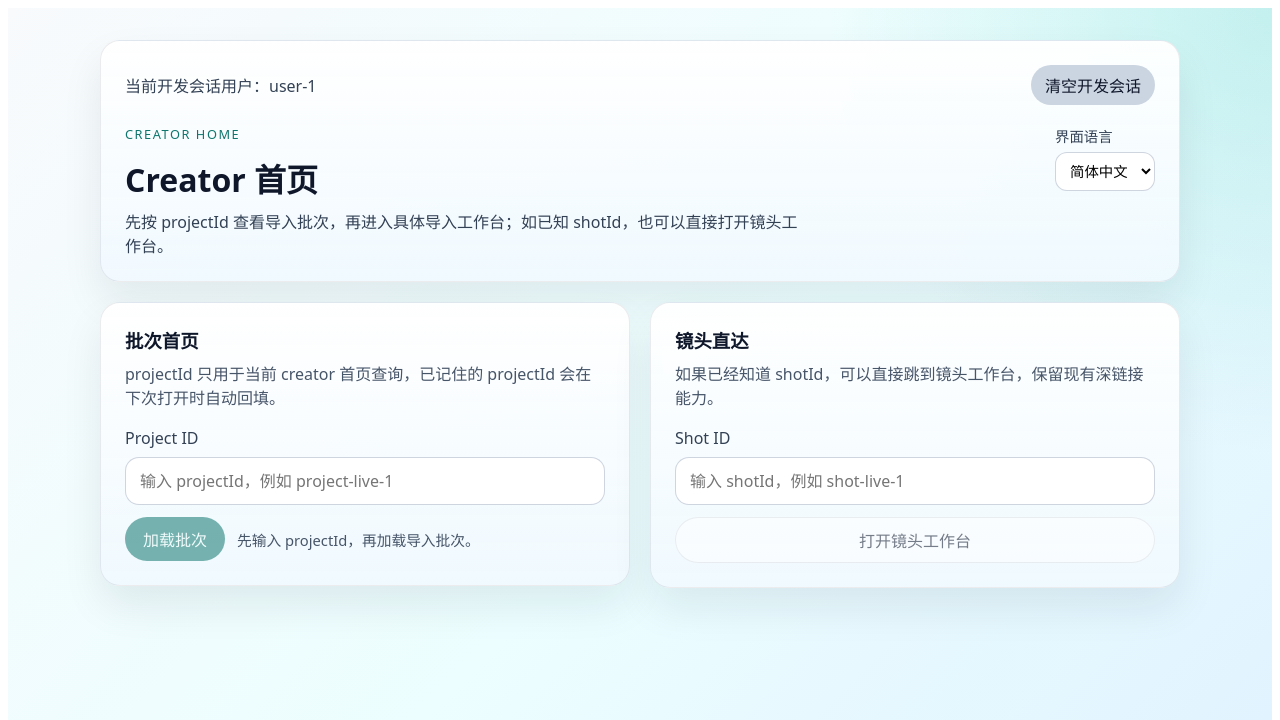
Test: App › opens the shot workbench from the homepage manual shotId entry
The width and height of the screenshot is (1280, 720).
Check: the heading "Creator 首页" is shown, box [125,158,318,201]
Type "shot-home-1" into the field labelled "Shot ID". click: (915, 481)
box: [675,457,1155,505]
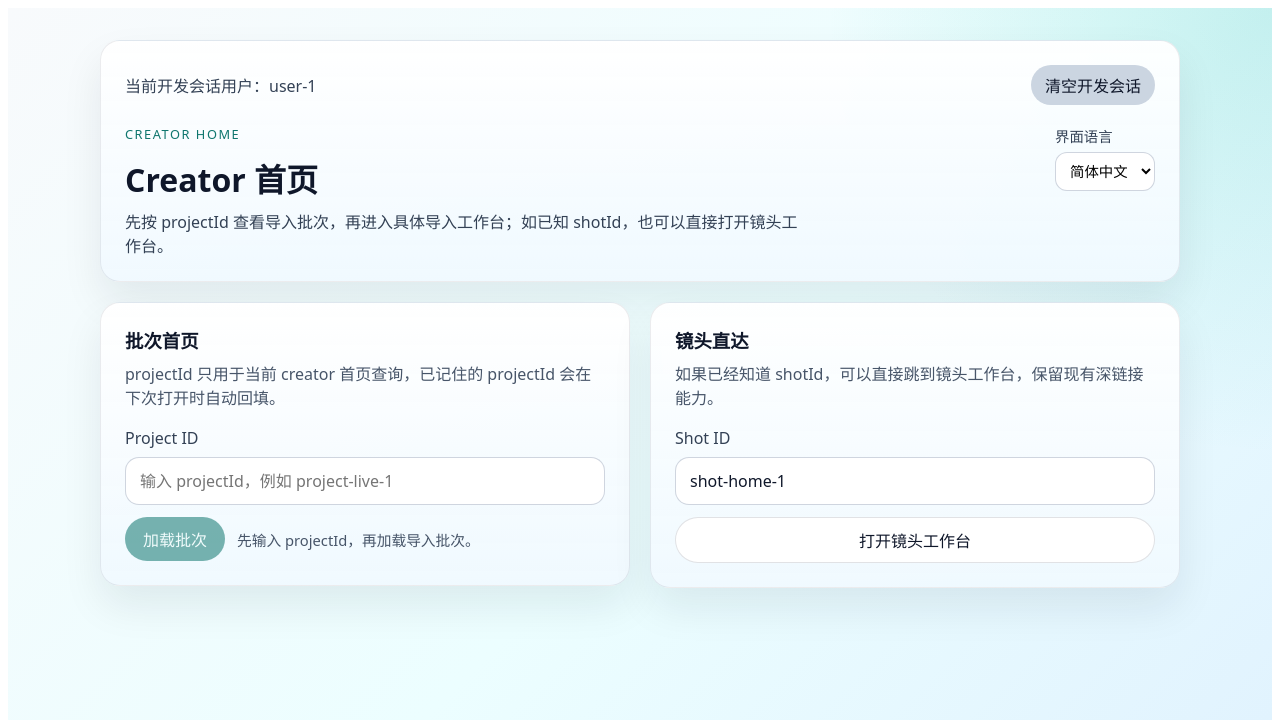
Click the button "打开镜头工作台". click: click(915, 540)
box: [675,517,1155,563]
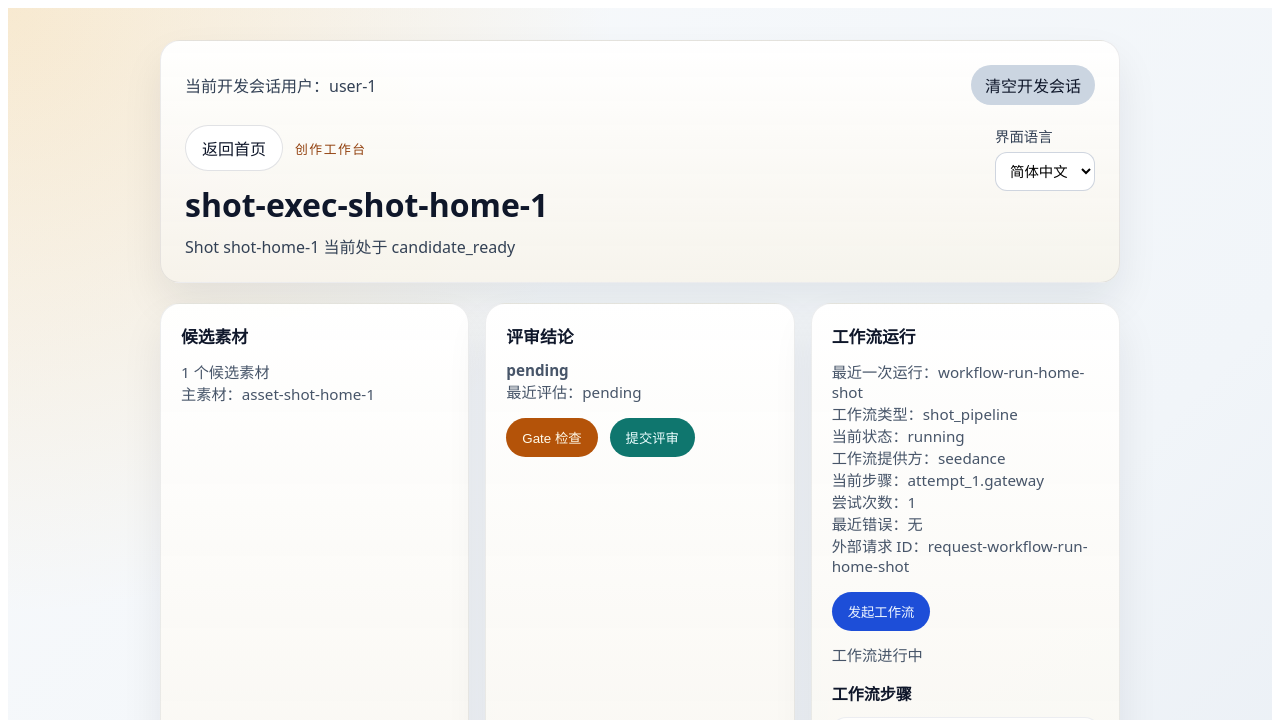
Check: the heading "shot-exec-shot-home-1" is shown, box [185,183,548,226]
Check: the button "返回首页" is shown, box [185,125,283,171]
